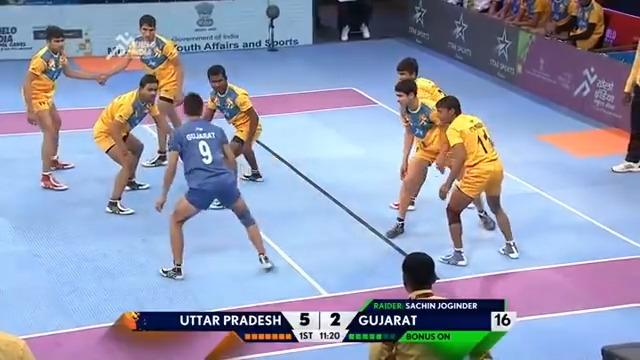Player: (431, 92, 522, 266), (19, 23, 105, 192), (97, 14, 185, 167), (91, 72, 164, 216), (199, 64, 263, 209), (391, 77, 417, 239), (395, 49, 456, 115)
Raider: (153, 90, 275, 281)
referee: (367, 251, 496, 359), (610, 39, 639, 173), (335, 0, 373, 41)
